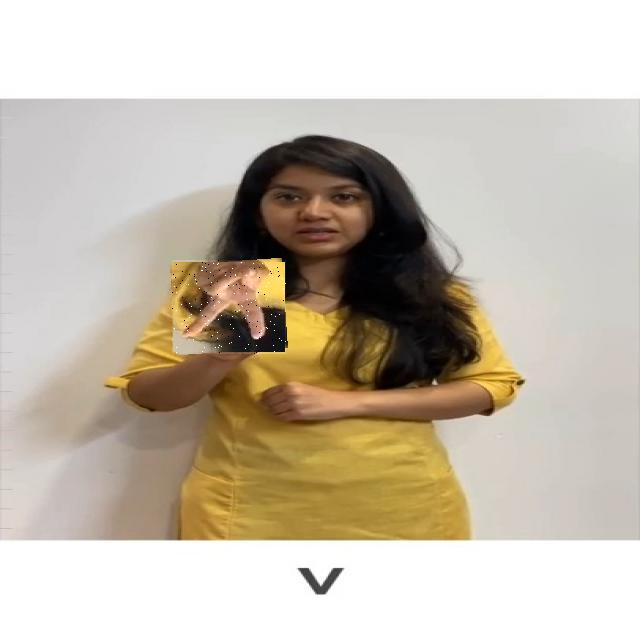V: (172, 260, 286, 354)
